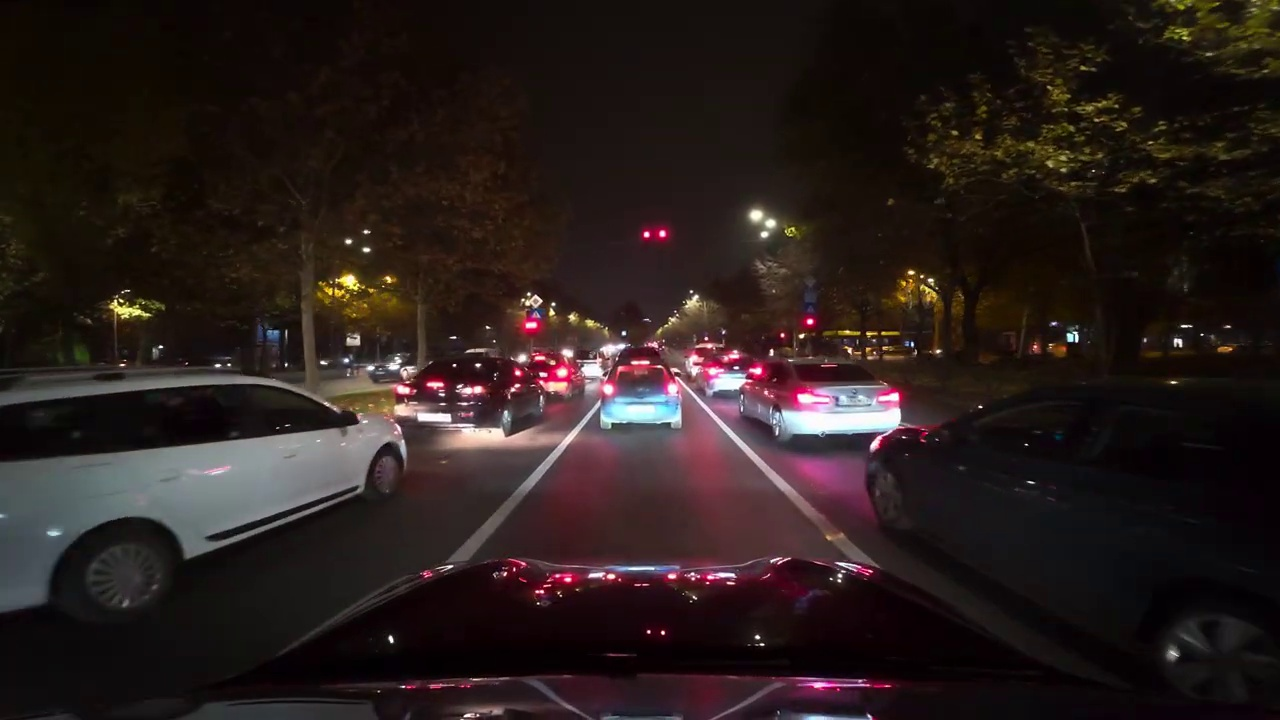acesa: (747, 205, 774, 237)
